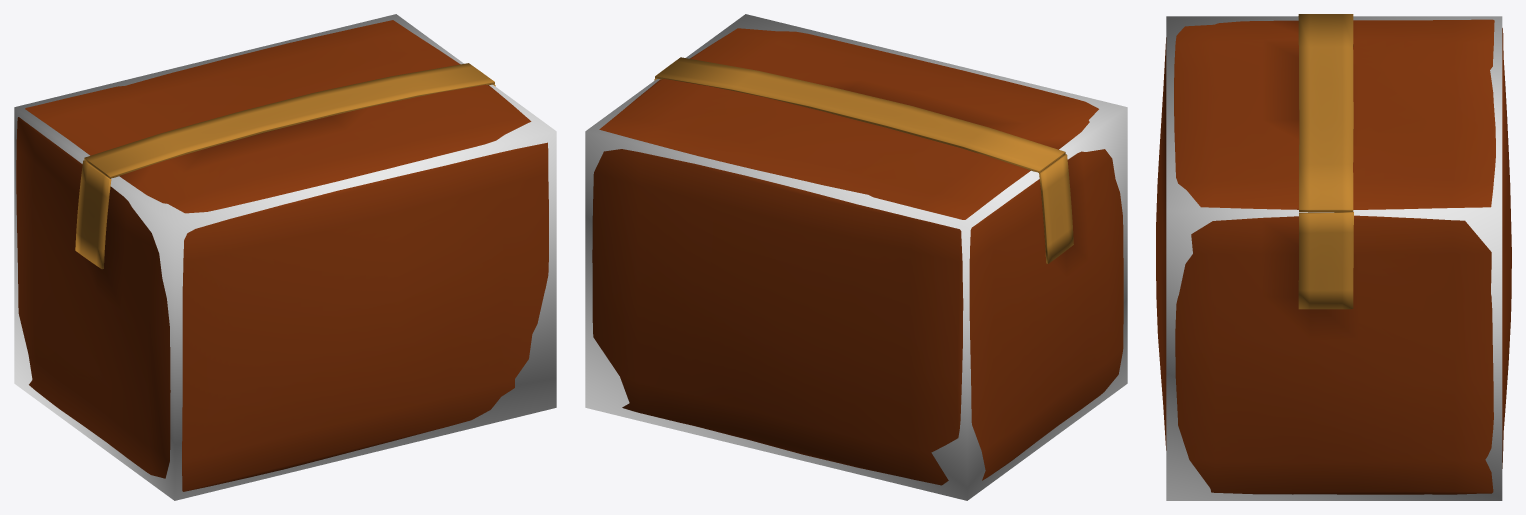
File: caja_carton.glb
3 renders of one model, left to right at view 1: azimuth 30°, elevation 25°; view 2: azimuth 150°, elevation 25°; view 3: azimuth 270°, elevation 25°, orthographic. The views are drawn at different scales.
Parts seen in each view (by area): view 1: caja, caja_carton-colcaja, cinta_0, cinta_2; view 2: caja, caja_carton-colcaja, cinta_0, cinta_2; view 3: caja, caja_carton-colcaja, cinta_0, cinta_1.
Boxes of the visible parts, x1,y1,x2,y2 form: caja: (16,20,548,491); caja_carton-colcaja: (14,14,556,500); cinta_0: (84,63,494,178); cinta_2: (75,160,111,269); caja: (592,28,1123,485); caja_carton-colcaja: (585,14,1127,500); cinta_0: (655,57,1065,173); cinta_2: (1039,154,1073,263); caja: (1156,19,1511,494); caja_carton-colcaja: (1166,16,1502,500); cinta_0: (1298,14,1353,211); cinta_1: (1298,212,1353,309).
Size of the model in its own units: 0.5783 by 0.4063 by 0.4237.
